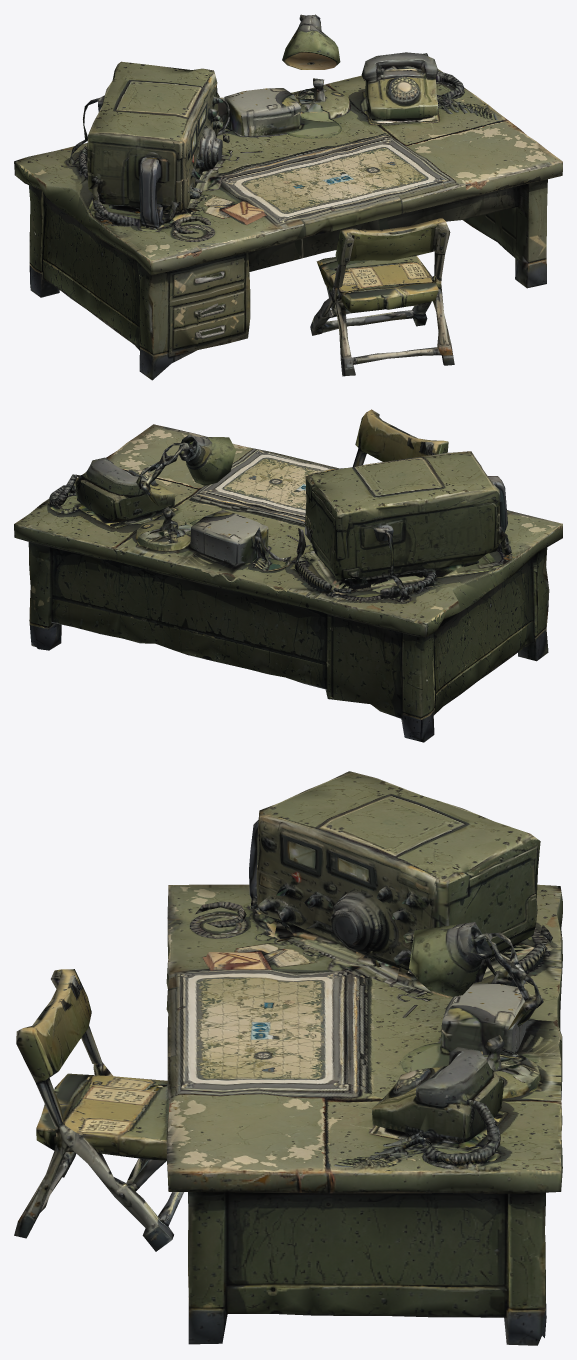
Rendered from EX_Mil_RadioDesk.fbx.
3 views of the same model, one above another, from view 1: azimuth 30°, elevation 25°; view 2: azimuth 150°, elevation 25°; view 3: azimuth 270°, elevation 25° (orthographic). The views are drawn at different scales.
Visible parts, largest first — view 1: texture_mapping; view 2: texture_mapping; view 3: texture_mapping.
Boxes of the visible parts, left/top/right/bottom form: texture_mapping: left=14, top=14, right=562, bottom=380; texture_mapping: left=14, top=409, right=562, bottom=742; texture_mapping: left=14, top=771, right=562, bottom=1345.
Bounding box in the file's own units: 1 × 0.8034 × 0.5284.
Materials: 1 (1 with a texture image).
